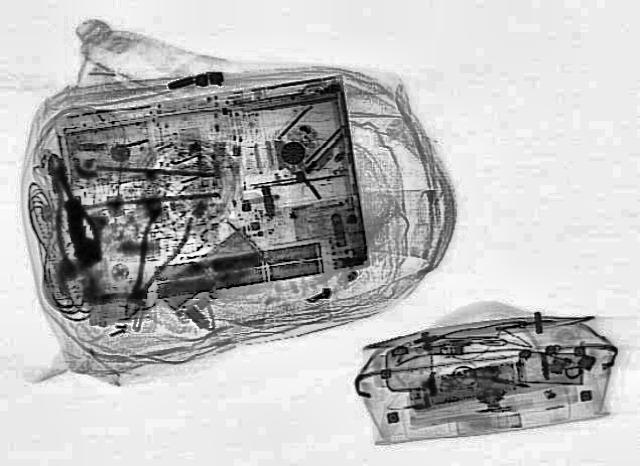Pliers: (100, 206, 198, 322), (28, 152, 106, 274)
